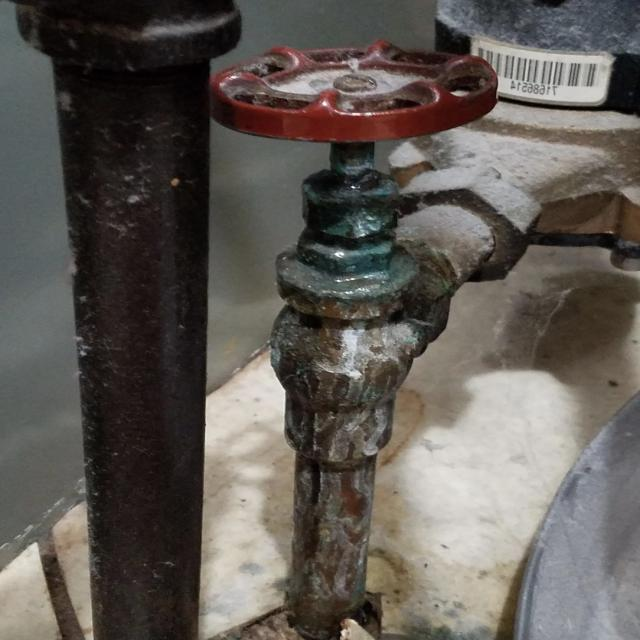Wheel Handle Valve Threaded: (209, 44, 498, 460)
